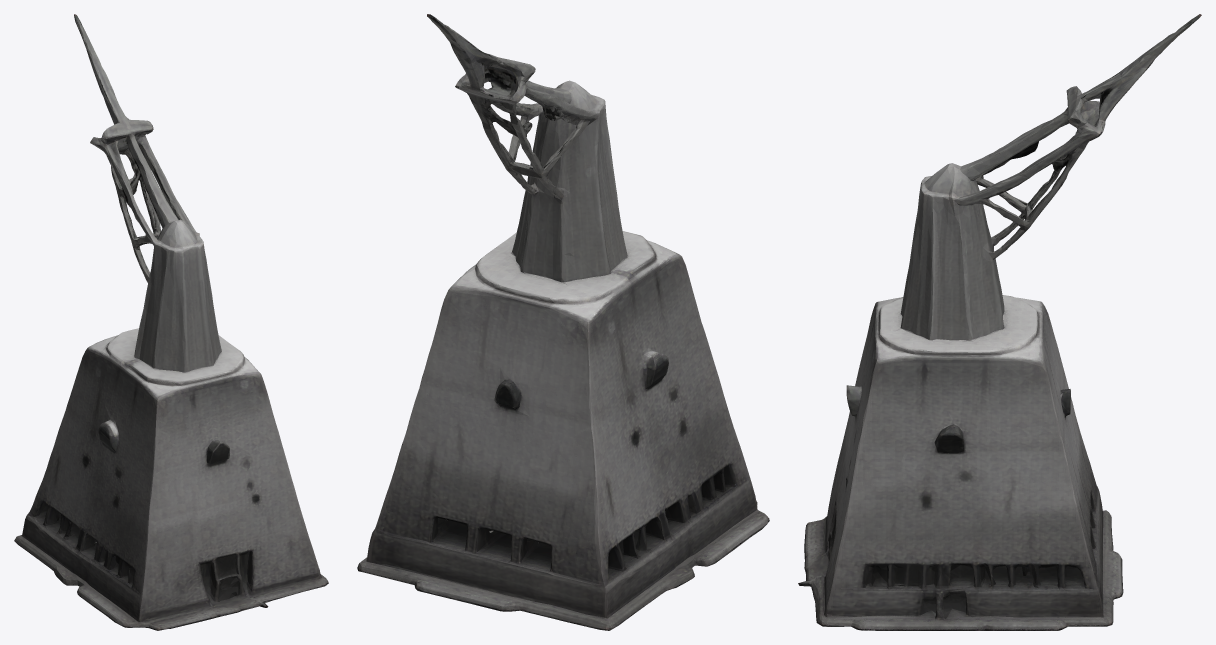
File: domkran.glb
The picture shows the model from 3 angles, left to right: view 1: azimuth 30°, elevation 25°; view 2: azimuth 150°, elevation 25°; view 3: azimuth 270°, elevation 25°; orthographic projection. The views are drawn at different scales.
Visible parts, largest first — view 1: world; view 2: world; view 3: world.
Boxes of the visible parts, x1,y1,x2,y2 form: world: (14,14,328,630); world: (357,14,769,630); world: (798,14,1201,630).
Bounding box in the file's own units: 0.4623 × 0.9998 × 0.6557.
Materials: 1 (1 with a texture image).
